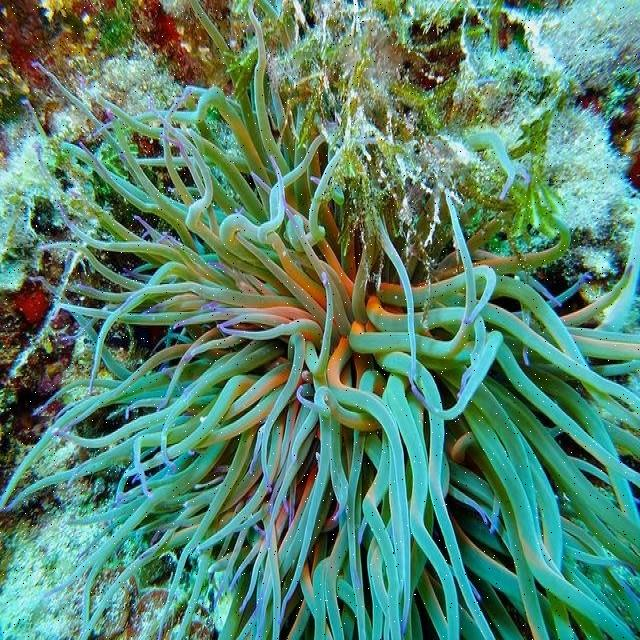reefs: (0, 1, 639, 639)
